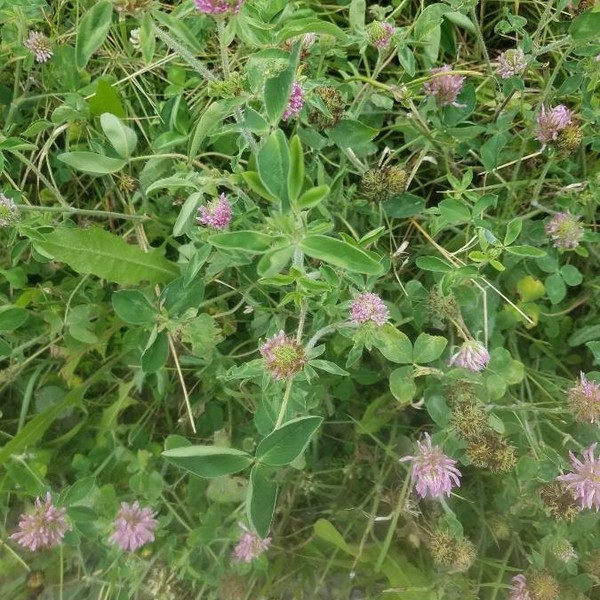obstacle: (16, 19, 542, 551)
